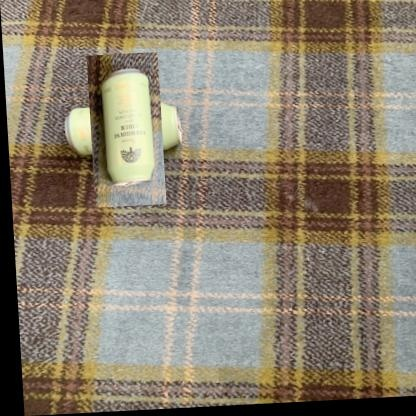trash: (101, 69, 153, 182), (65, 108, 91, 155), (161, 103, 181, 149)
